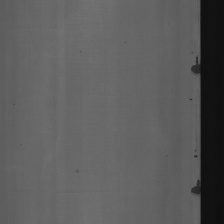water_spot: (187, 46, 200, 81), (190, 170, 201, 205)
